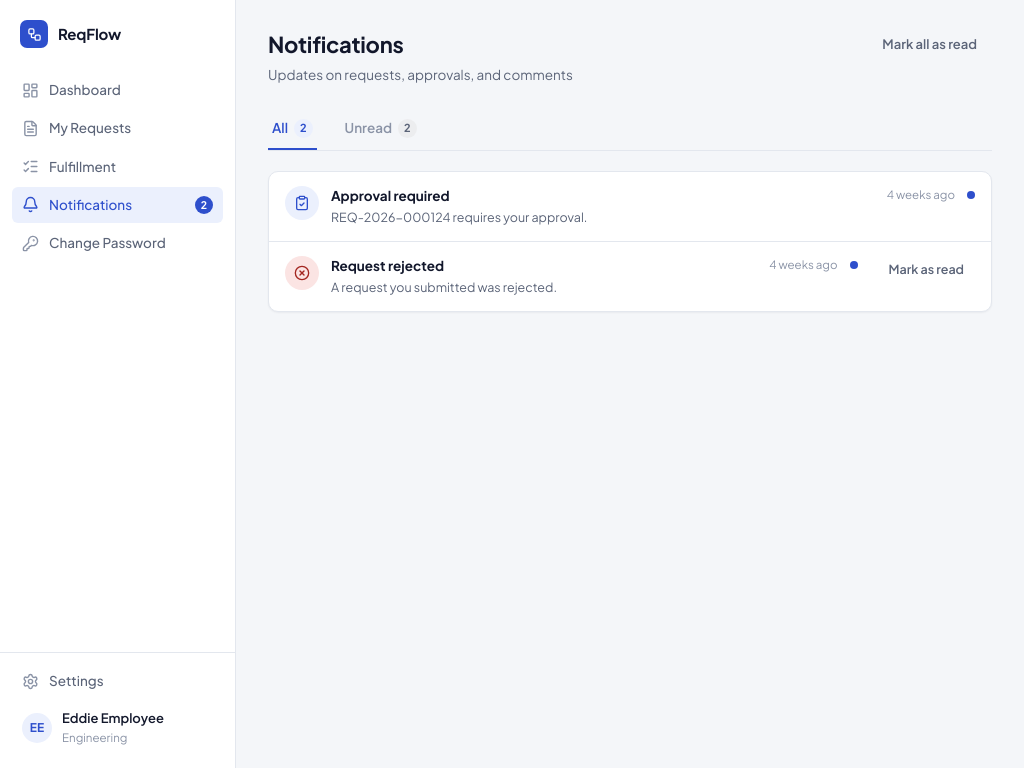
Scenario: NotificationsPage › marks all notifications read via POST /notifications/read-all and refetches the real unread count
This screenshot has width=1024, height=768.
Click the button "Mark all as read" at point(930, 45), box [867,28,992,62]
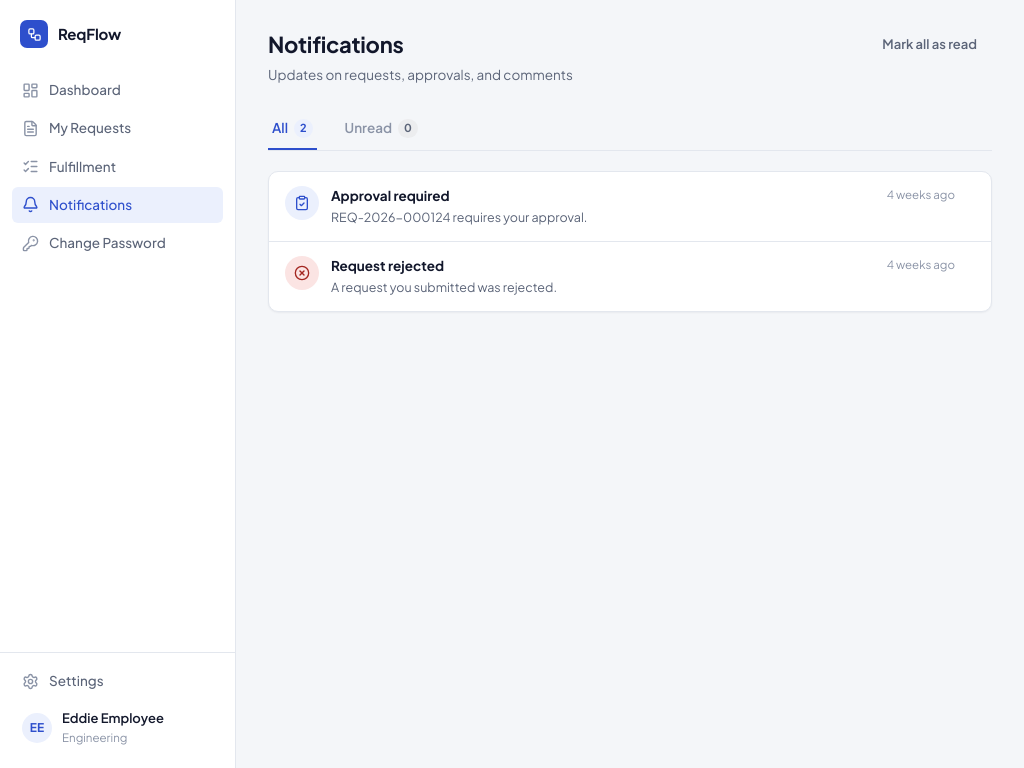
Expected: the link "Unread 0" is shown, [344,119,418,138]
Expected: the button "Mark as read" is gone
